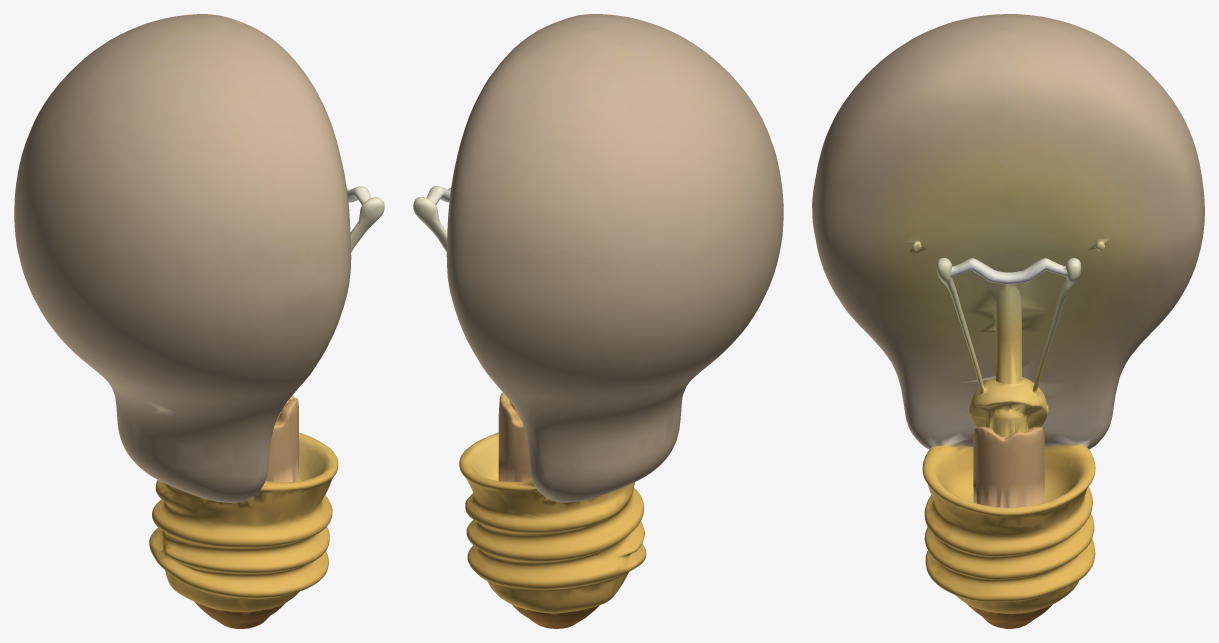
The model's file is ic-lighting.glb.
3 renders of one model, left to right at view 1: azimuth 30°, elevation 25°; view 2: azimuth 150°, elevation 25°; view 3: azimuth 270°, elevation 25°, orthographic. The views are drawn at different scales.
Parts seen in each view (by area): view 1: tripo_node_b5a03915-66b4-46c6-977d-0e6b3790e94d; view 2: tripo_node_b5a03915-66b4-46c6-977d-0e6b3790e94d; view 3: tripo_node_b5a03915-66b4-46c6-977d-0e6b3790e94d.
Part boxes in pixels (x1=…): tripo_node_b5a03915-66b4-46c6-977d-0e6b3790e94d: x1=14, y1=14, x2=384, y2=628; tripo_node_b5a03915-66b4-46c6-977d-0e6b3790e94d: x1=413, y1=14, x2=783, y2=628; tripo_node_b5a03915-66b4-46c6-977d-0e6b3790e94d: x1=812, y1=14, x2=1204, y2=628.
Bounding box in the file's own units: 0.0806 × 0.15 × 0.0925.
Materials: 1 (1 with a texture image).
